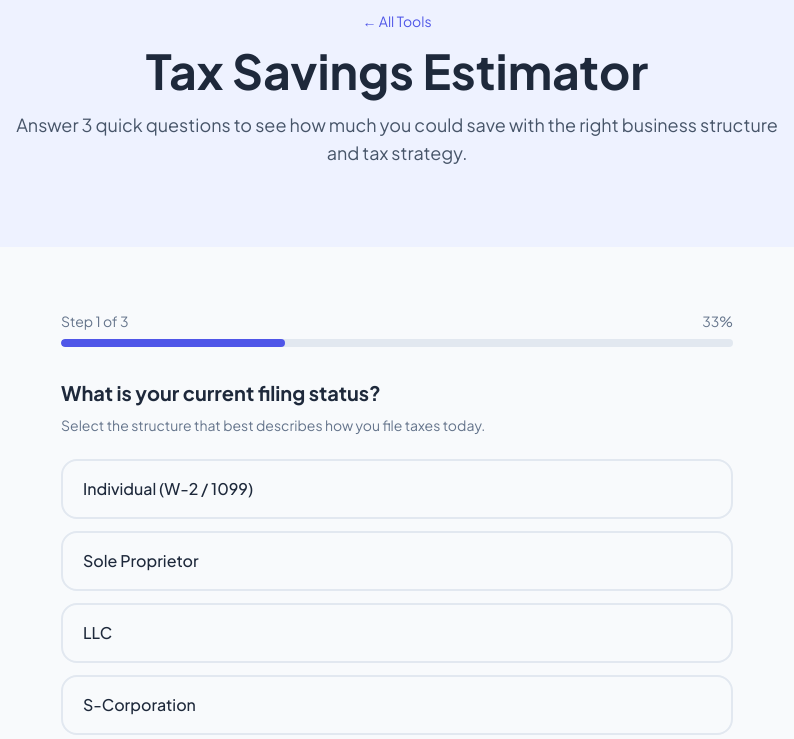
it: TaxSavingsEstimator – step navigation › selecting a filing status advances to step 2
Click the button "LLC": [98, 632] box [61,603,733,663]
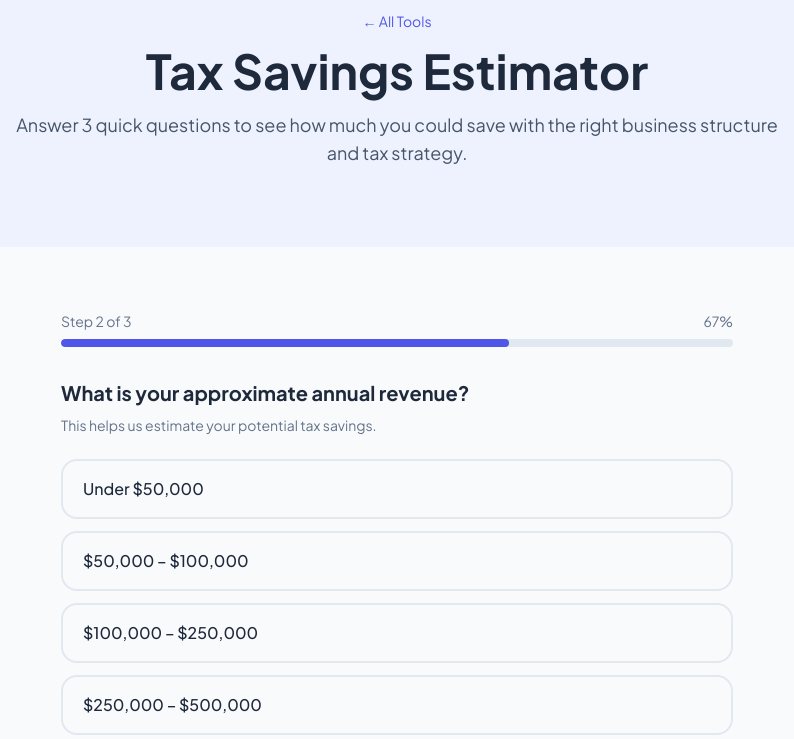
Expected: the text "Step 2 of 3" is shown, [61,311,132,331]
Expected: the heading "What is your approximate annual revenue?" is shown, [61,380,469,405]
